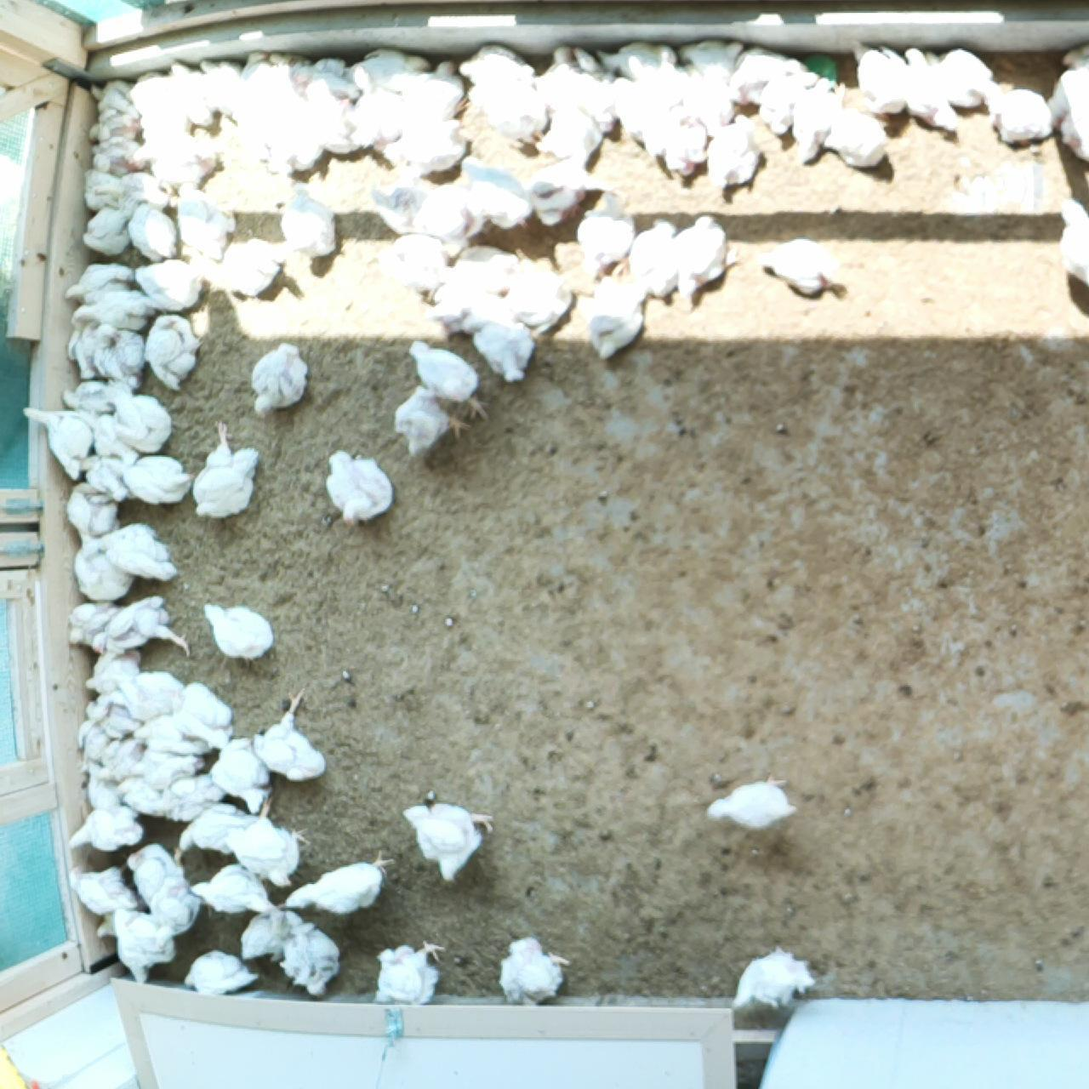chicken: (281, 839, 397, 923), (182, 411, 263, 522), (399, 799, 503, 882), (402, 331, 494, 422), (225, 796, 308, 887), (577, 270, 659, 362), (89, 593, 197, 661), (253, 685, 326, 784), (752, 232, 848, 305), (371, 109, 472, 178), (673, 208, 739, 313), (390, 371, 467, 459), (492, 925, 576, 1005), (169, 793, 266, 861), (324, 443, 400, 529), (727, 941, 818, 1012), (700, 769, 796, 834), (373, 931, 454, 1007), (467, 300, 538, 386), (966, 72, 1051, 143), (571, 184, 636, 275), (107, 905, 180, 986), (210, 730, 277, 817), (787, 74, 850, 166), (513, 249, 577, 338), (244, 340, 314, 421), (19, 403, 94, 478), (413, 175, 482, 255), (468, 75, 544, 147), (375, 225, 452, 296), (460, 157, 529, 236), (280, 914, 342, 1001), (345, 66, 410, 148), (141, 308, 202, 392), (400, 54, 471, 126), (178, 181, 237, 267), (98, 522, 177, 586), (622, 212, 685, 292), (902, 47, 959, 133), (757, 53, 814, 139), (279, 175, 338, 258), (703, 111, 763, 192), (929, 42, 998, 112), (165, 679, 232, 751), (189, 863, 280, 916), (852, 33, 908, 119), (532, 147, 590, 229), (60, 803, 148, 856), (568, 46, 621, 133), (202, 599, 274, 661), (681, 64, 742, 136), (132, 254, 205, 314), (109, 385, 171, 455), (66, 287, 155, 335), (147, 876, 201, 955), (424, 284, 507, 335), (67, 536, 133, 600), (179, 945, 259, 997), (64, 863, 138, 918), (447, 238, 518, 295), (619, 58, 680, 124), (120, 453, 194, 507), (344, 41, 426, 89), (820, 109, 890, 165), (537, 102, 603, 160), (231, 232, 287, 299), (661, 111, 713, 182), (95, 319, 148, 388), (1053, 191, 1089, 288), (96, 166, 172, 211), (305, 92, 355, 160), (592, 37, 676, 77), (237, 907, 299, 961), (57, 263, 133, 306), (61, 478, 116, 537), (165, 58, 211, 128), (365, 179, 428, 230), (124, 667, 184, 720), (452, 38, 533, 77), (263, 124, 326, 173), (126, 201, 181, 257), (1045, 51, 1089, 120), (732, 39, 780, 102), (163, 772, 220, 825), (154, 139, 218, 186), (83, 646, 145, 694), (681, 27, 739, 78), (532, 43, 582, 102), (62, 602, 122, 651), (131, 714, 208, 752), (126, 841, 187, 887), (82, 205, 133, 258), (87, 411, 138, 462), (129, 745, 199, 782), (88, 137, 153, 175), (81, 452, 129, 502), (95, 739, 145, 787), (61, 322, 103, 379), (78, 164, 124, 212), (200, 56, 240, 111), (64, 381, 116, 423), (314, 52, 358, 101), (89, 694, 138, 737), (90, 74, 140, 116), (239, 95, 288, 137), (83, 107, 147, 139), (82, 766, 124, 813), (633, 102, 666, 160), (130, 69, 180, 107), (142, 105, 192, 142), (1058, 103, 1089, 161), (117, 780, 164, 817), (71, 724, 112, 764), (271, 46, 306, 90), (248, 52, 280, 97)
